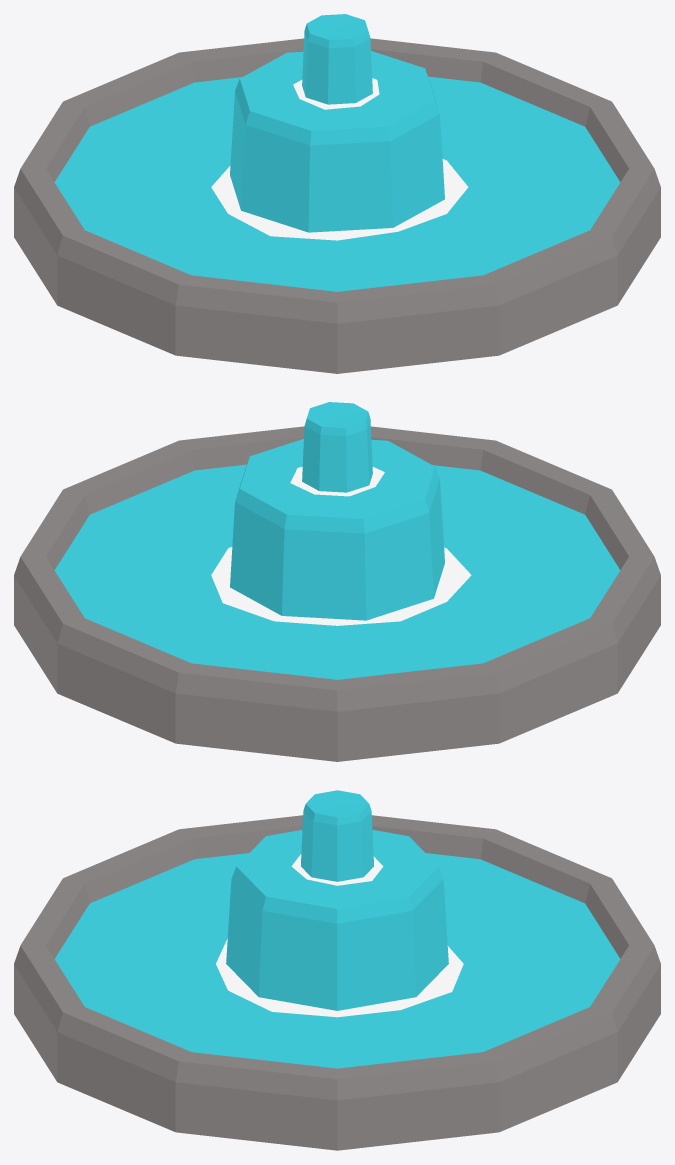
The model's file is fountain.glb.
3 renders of one model, top to bottom at view 1: azimuth 30°, elevation 25°; view 2: azimuth 150°, elevation 25°; view 3: azimuth 270°, elevation 25°, orthographic.
Visible parts, largest first — view 1: fountain; view 2: fountain; view 3: fountain.
Boxes of the visible parts, <box> form: fountain: <box>14,14,660,373</box>; fountain: <box>14,402,660,761</box>; fountain: <box>14,790,660,1150</box>.
Size of the model in its own units: 5.98 by 2.14 by 5.98.
1 material, 1 textured.
